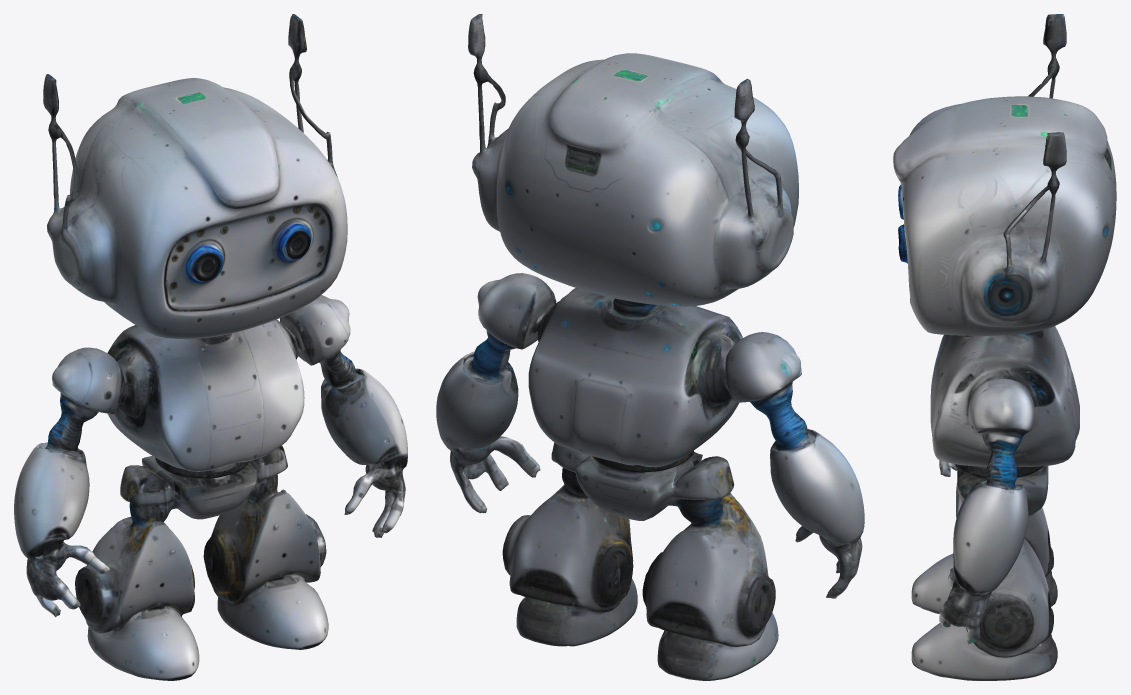
File: Robot_V1.glb
3 views of the same model, side by side, from view 1: azimuth 30°, elevation 25°; view 2: azimuth 150°, elevation 25°; view 3: azimuth 270°, elevation 25° (orthographic). The views are drawn at different scales.
Bounding box in the file's own units: 1.42 × 2 × 0.7252.
1 material, 1 textured.
